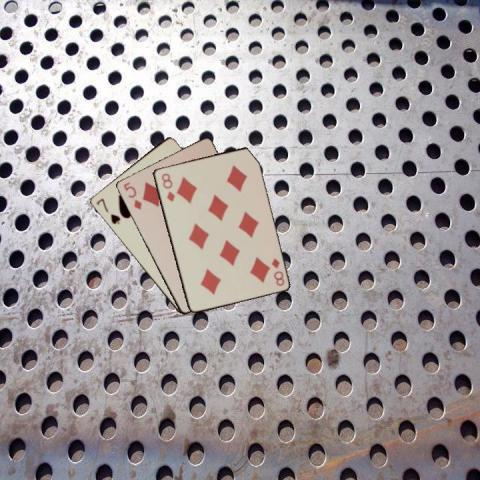5d: (120, 180, 143, 212)
7s: (94, 196, 122, 226)
8d: (158, 170, 176, 203), (268, 255, 285, 287)
